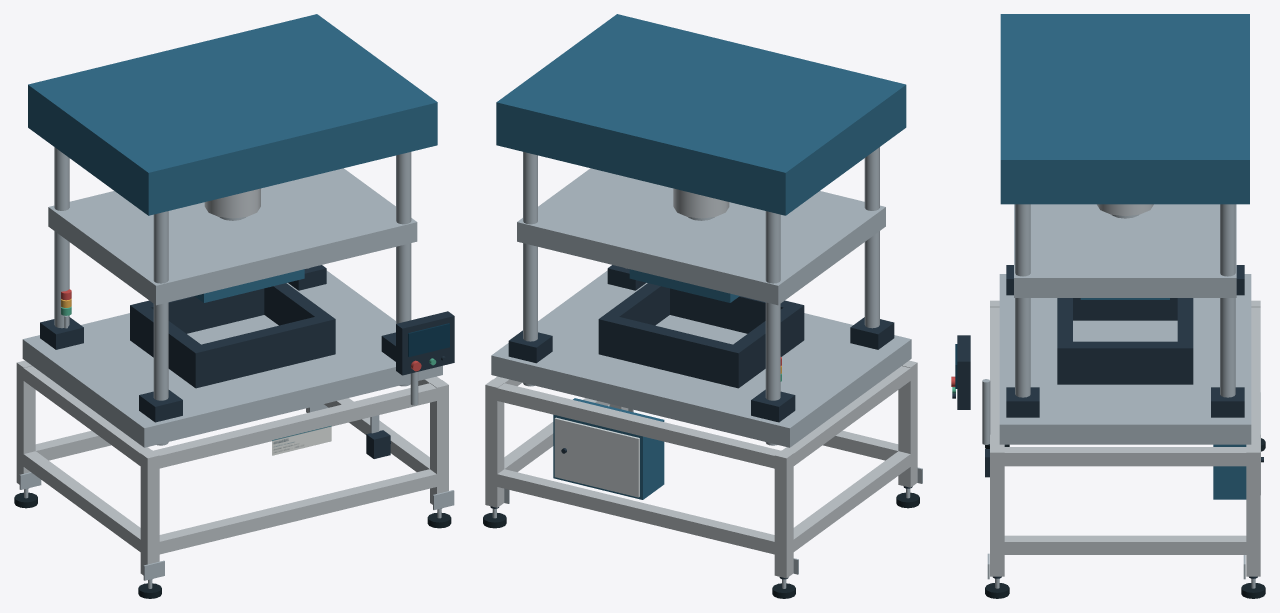
The model's file is tray-former.glb.
The picture shows the model from 3 angles, left to right: view 1: azimuth 30°, elevation 25°; view 2: azimuth 150°, elevation 25°; view 3: azimuth 270°, elevation 25°; orthographic projection. The views are drawn at different scales.
Parts seen in each view (by area): view 1: PressCrown_40, MovingToolPlate_42, LowerToolTable_31, TrayMoldWall_48, Extrusion_22, Extrusion_23, TrayMoldWall_47, Extrusion_24, GuideColumn_34, Extrusion_25, GuideColumn_38, Extrusion_8 (+16 smaller); view 2: PressCrown_40, LowerToolTable_31, MovingToolPlate_42, TrayMoldWall_47, Extrusion_20, Extrusion_21, BackAccessDoor_29, TrayMoldWall_48, Extrusion_24, GuideColumn_32, Extrusion_25, GuideColumn_36 (+15 smaller); view 3: PressCrown_40, LowerToolTable_31, MovingToolPlate_42, TrayMoldWall_46, Extrusion_27, Extrusion_26, GuideColumn_36, GuideColumn_38, TrayMoldWall_45, Extrusion_18, Extrusion_13, Extrusion_21 (+9 smaller).
Boxes of the visible parts, <box> form: PressCrown_40: <box>28,14,437,215</box>; MovingToolPlate_42: <box>48,168,417,305</box>; LowerToolTable_31: <box>22,270,442,447</box>; TrayMoldWall_48: <box>188,314,335,388</box>; Extrusion_22: <box>153,469,436,555</box>; Extrusion_23: <box>153,383,436,469</box>; TrayMoldWall_47: <box>130,288,264,341</box>; Extrusion_24: <box>20,451,142,553</box>; GuideColumn_34: <box>153,211,168,445</box>; Extrusion_25: <box>20,366,151,466</box>; GuideColumn_38: <box>396,152,411,386</box>; Extrusion_8: <box>140,450,159,575</box>; PressCrown_40: <box>496,14,906,215</box>; LowerToolTable_31: <box>491,270,911,447</box>; MovingToolPlate_42: <box>517,168,885,305</box>; TrayMoldWall_47: <box>598,314,744,388</box>; Extrusion_20: <box>491,469,774,554</box>; Extrusion_21: <box>497,383,780,468</box>; BackAccessDoor_29: <box>554,417,639,497</box>; TrayMoldWall_48: <box>670,288,804,341</box>; Extrusion_24: <box>790,451,910,554</box>; GuideColumn_32: <box>765,211,780,445</box>; Extrusion_25: <box>782,366,910,468</box>; GuideColumn_36: <box>523,152,537,386</box>; PressCrown_40: <box>1000,14,1249,204</box>; LowerToolTable_31: <box>999,274,1251,444</box>; MovingToolPlate_42: <box>1014,204,1236,297</box>; TrayMoldWall_46: <box>1063,341,1187,384</box>; Extrusion_27: <box>997,447,1253,466</box>; Extrusion_26: <box>1004,535,1246,554</box>; GuideColumn_36: <box>1220,204,1235,397</box>; GuideColumn_38: <box>1015,204,1030,397</box>; TrayMoldWall_45: <box>1073,298,1177,320</box>; Extrusion_18: <box>990,446,1004,576</box>; Extrusion_13: <box>1246,446,1260,576</box>; Extrusion_21: <box>1246,307,1260,446</box>.
Bounding box in the file's own units: 1.66 × 2.15 × 1.41.
Materials: 11 (1 with a texture image).
